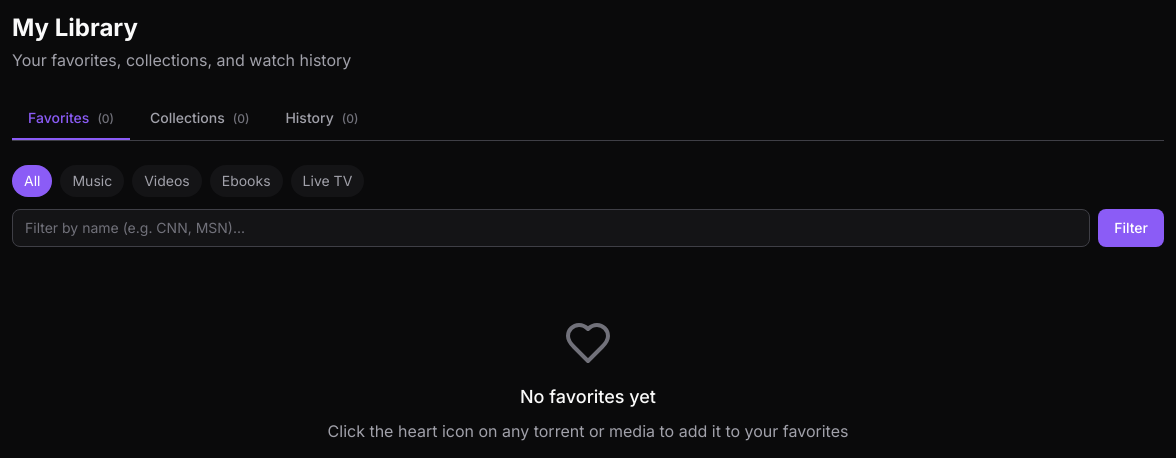
Test: LibraryContent › Collections Tab › shows new collection button
This screenshot has width=1176, height=458.
Click the button "Collections(0)" at (200, 118), box 134,96 -> 265,140
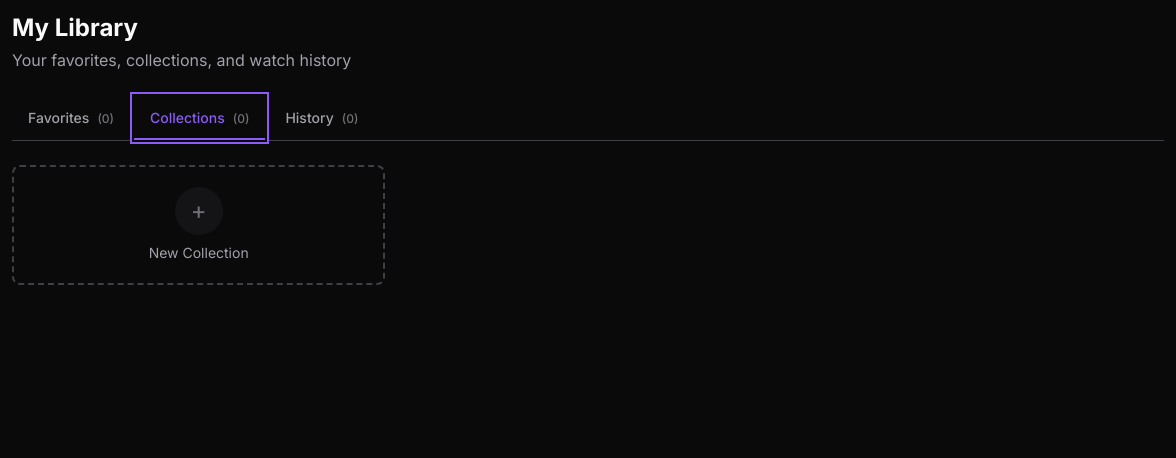
expect the text "New Collection" is shown: met, box 149,243 -> 249,263
